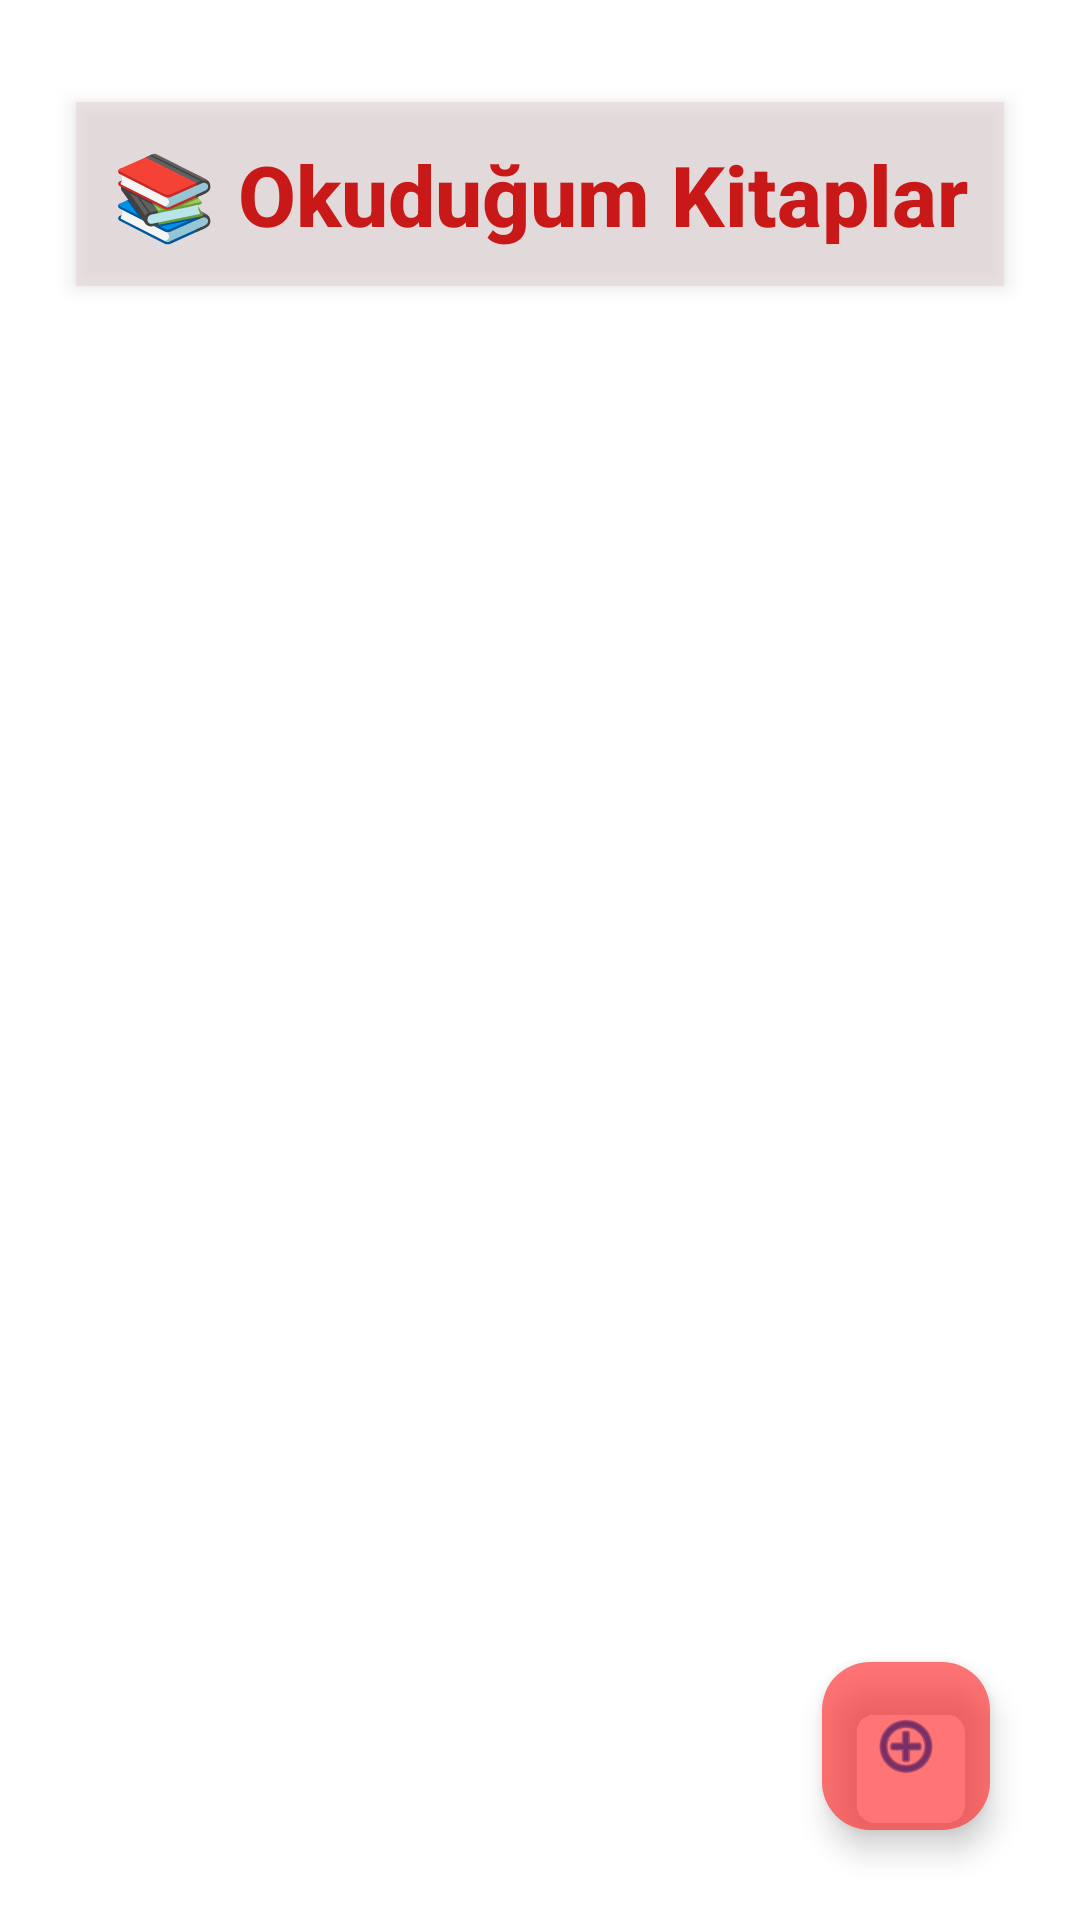

Icon bounding boxes for this 1080 x 1920 phone screenshot, format (x1, y1, x2, y2):
Yeni Kitap Ekle: (822, 1662, 990, 1830)
